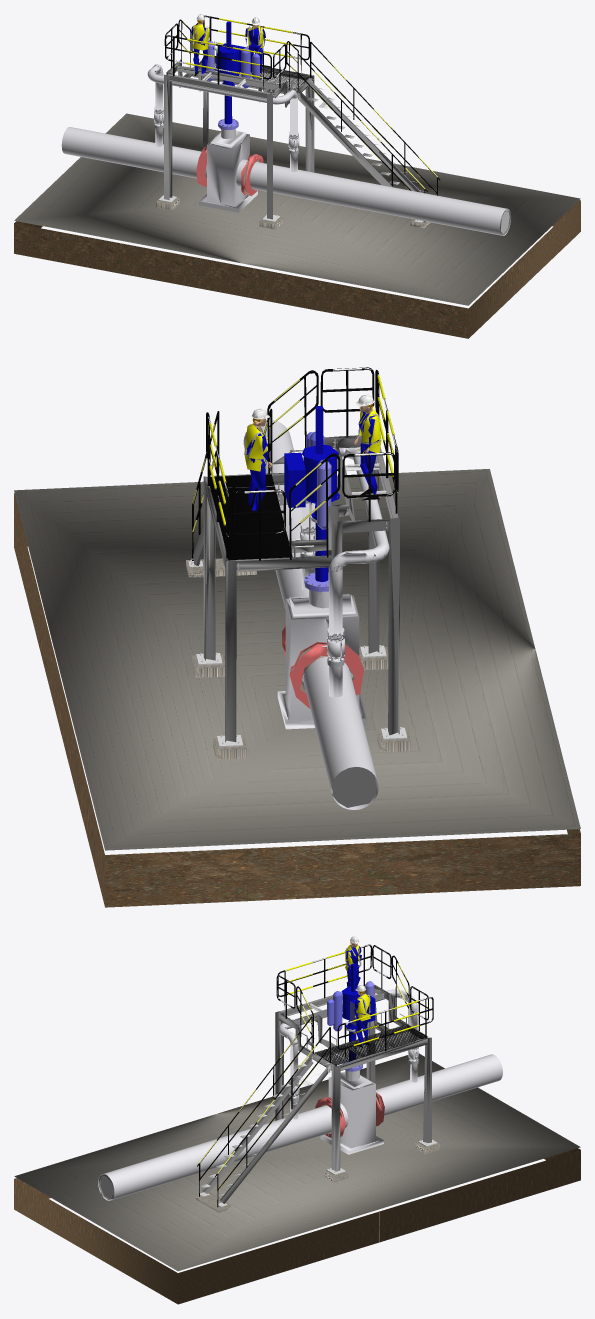
Rendered from modelo.glb.
The picture shows the model from 3 angles, top to bottom: view 1: azimuth 30°, elevation 25°; view 2: azimuth 150°, elevation 25°; view 3: azimuth 270°, elevation 25°; orthographic projection. The views are drawn at different scales.
Visible parts, largest first — view 1: object 1, object 4; view 2: object 1, object 4, Geom3D; view 3: object 1, object 4.
Part boxes in pixels (box(x1,y1,x2,y2)): object 1: box(14, 18, 580, 338); object 4: box(196, 146, 263, 196); object 1: box(14, 375, 580, 907); object 4: box(282, 624, 363, 708); Geom3D: box(244, 423, 267, 471); object 1: box(14, 951, 580, 1304); object 4: box(315, 1092, 384, 1137).
Bounding box in the file's own units: 13.03 × 6.22 × 14.24.
Materials: 40 (10 with a texture image).
